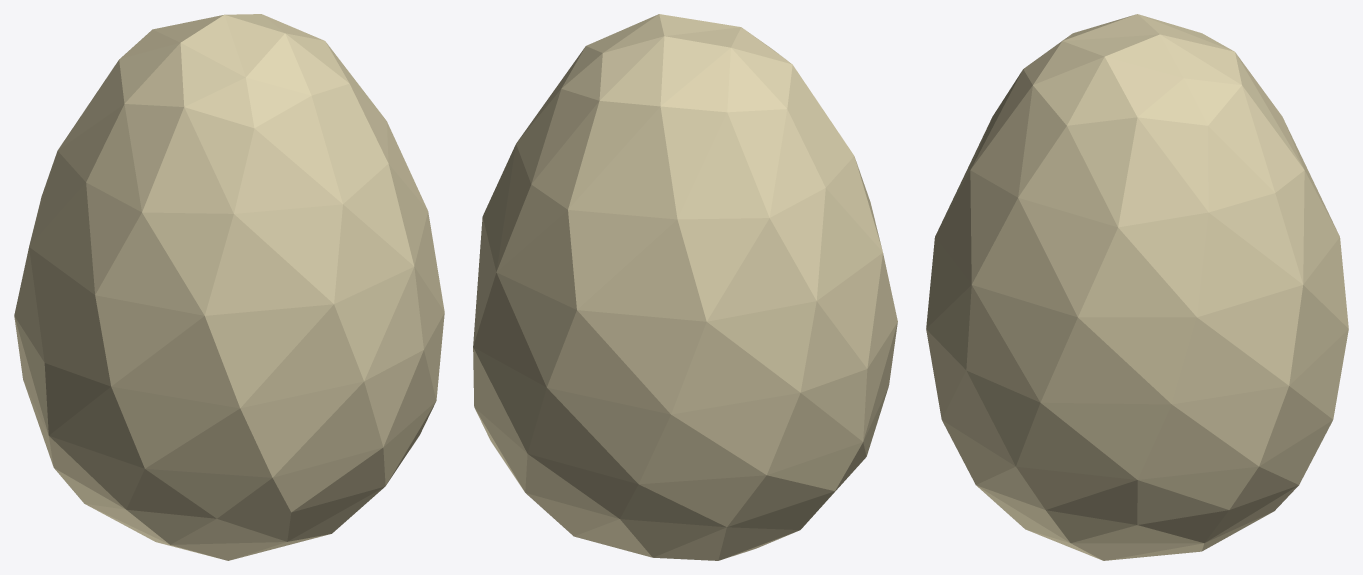
Rendered from Egg_Ostrich.fbx.
3 renders of one model, left to right at view 1: azimuth 30°, elevation 25°; view 2: azimuth 150°, elevation 25°; view 3: azimuth 270°, elevation 25°, orthographic.
Visible parts, largest first — view 1: Egg_Ostrich; view 2: Egg_Ostrich; view 3: Egg_Ostrich.
Part boxes in pixels (x1,y1,x2,y2): Egg_Ostrich: (14, 14, 444, 560); Egg_Ostrich: (473, 14, 897, 560); Egg_Ostrich: (926, 14, 1348, 560).
Size of the model in its own units: 0.4773 by 0.6365 by 0.4772.
